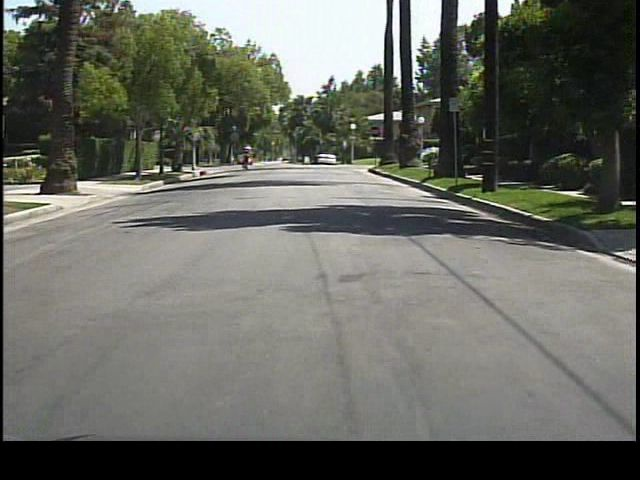person: (240, 141, 255, 172)
